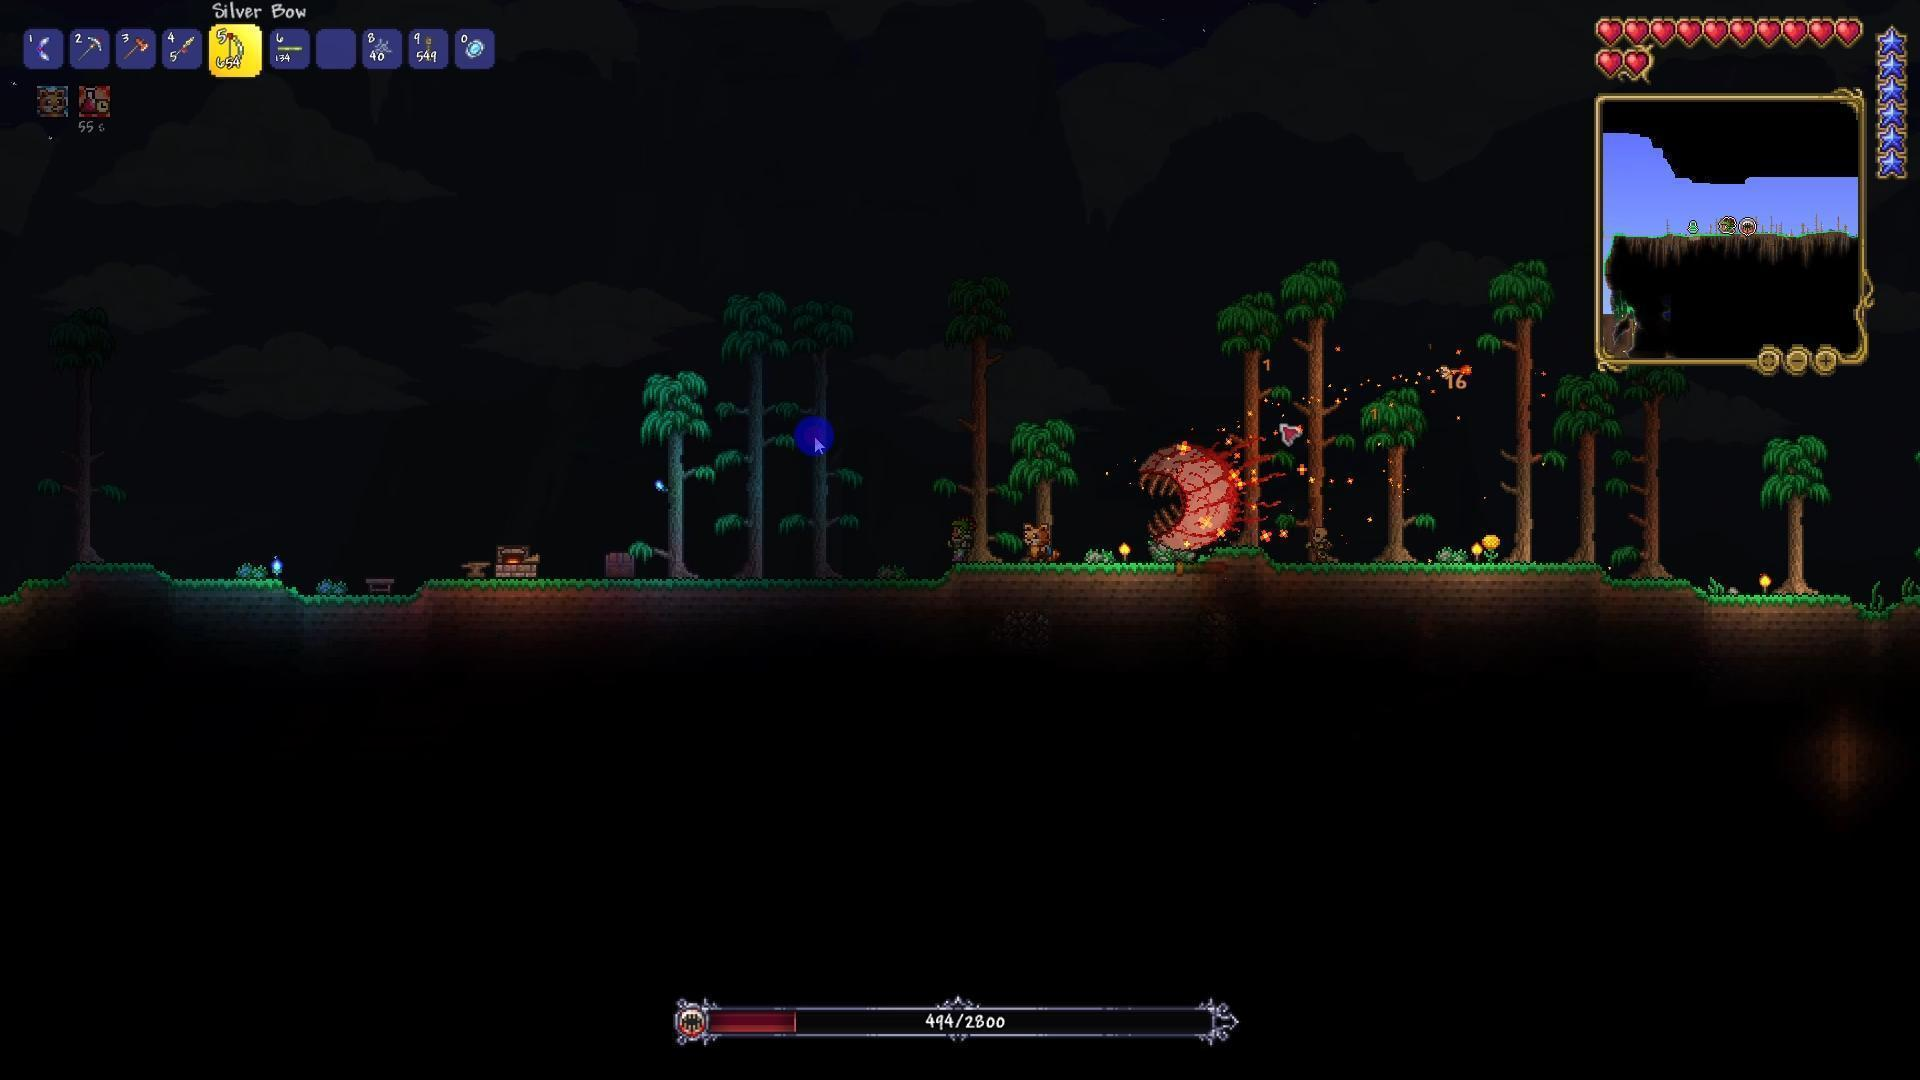anvil: (458, 558, 493, 575)
cobwebI: (372, 36, 393, 55)
eyeC: (1130, 401, 1303, 574)
furnace: (491, 541, 545, 575)
tree: (1754, 435, 1833, 612)
workbench: (361, 572, 400, 592)
